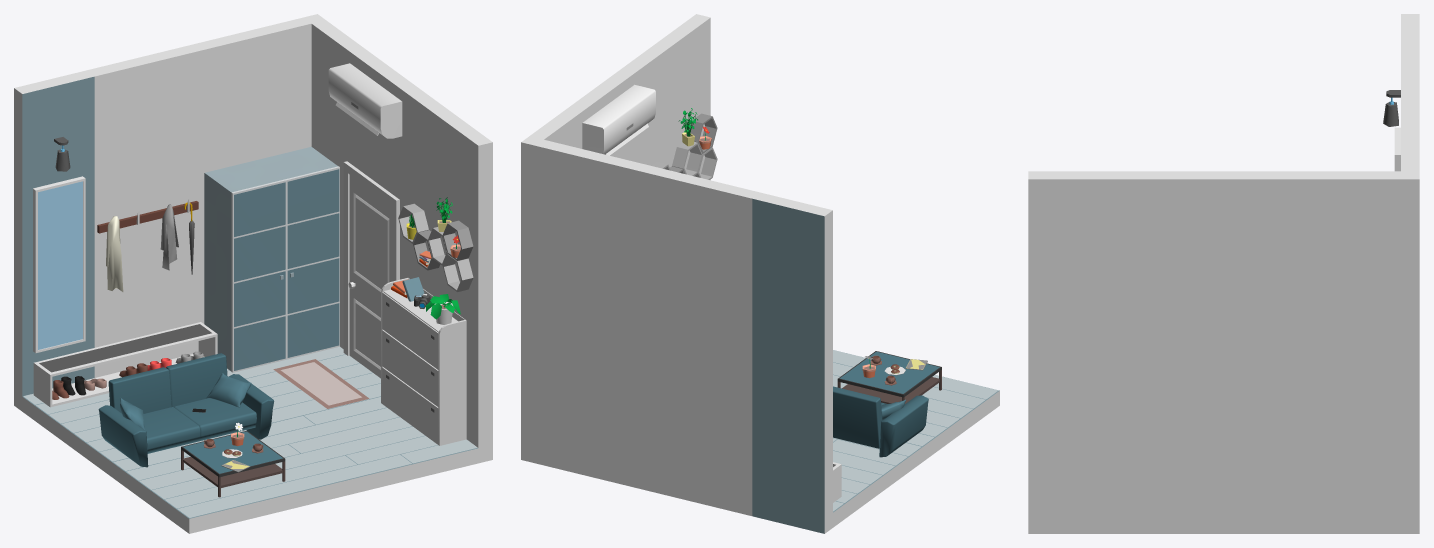
The model's file is room_1.glb.
3 renders of one model, left to right at view 1: azimuth 30°, elevation 25°; view 2: azimuth 150°, elevation 25°; view 3: azimuth 270°, elevation 25°, orthographic. The views are drawn at different scales.
Visible parts, largest first — view 1: Walls_006.002, Walls_006.003, closet_011.001, floor_012.001, Walls_116.004, sofa_022.001, shelf_030.001, Walls_116.001, picture_054.001, door_017.001, tv_wall_016.001, electronics_027.001 (+6 smaller); view 2: Walls_006.002, Walls_116.004, Walls_006.003, floor_012.001, sofa_022.001, electronics_027.001, Walls_116.001, coffee_table_022.001, shelf_006.001; view 3: Walls_006.003, Walls_006.002, Walls_116.004, lamp_029.001.
Boxes of the visible parts, x1,y1,x2,y2 form: Walls_006.002: (86,17,311,377); Walls_006.003: (303,14,492,463); closet_011.001: (204,146,339,372); floor_012.001: (23,346,477,517); Walls_116.004: (14,70,94,411); sofa_022.001: (98,353,274,467); shelf_030.001: (381,278,466,445); Walls_116.001: (22,354,478,533); picture_054.001: (33,176,85,353); door_017.001: (348,175,391,378); tv_wall_016.001: (33,322,217,407); electronics_027.001: (328,63,402,138); Walls_006.002: (535,140,760,515); Walls_116.004: (752,192,832,533); Walls_006.003: (521,14,710,463); floor_012.001: (833,350,998,511); sofa_022.001: (833,386,928,457); electronics_027.001: (582,84,655,155); Walls_116.001: (833,353,999,527); coffee_table_022.001: (837,351,941,403); shelf_006.001: (651,113,717,179); Walls_006.003: (1028,171,1419,533); Walls_006.002: (1401,53,1419,171); Walls_116.004: (1401,14,1419,53); lamp_029.001: (1383,90,1400,126).
Size of the model in its own units: 4.2 by 4.2 by 4.2.
1 material, 1 textured.
